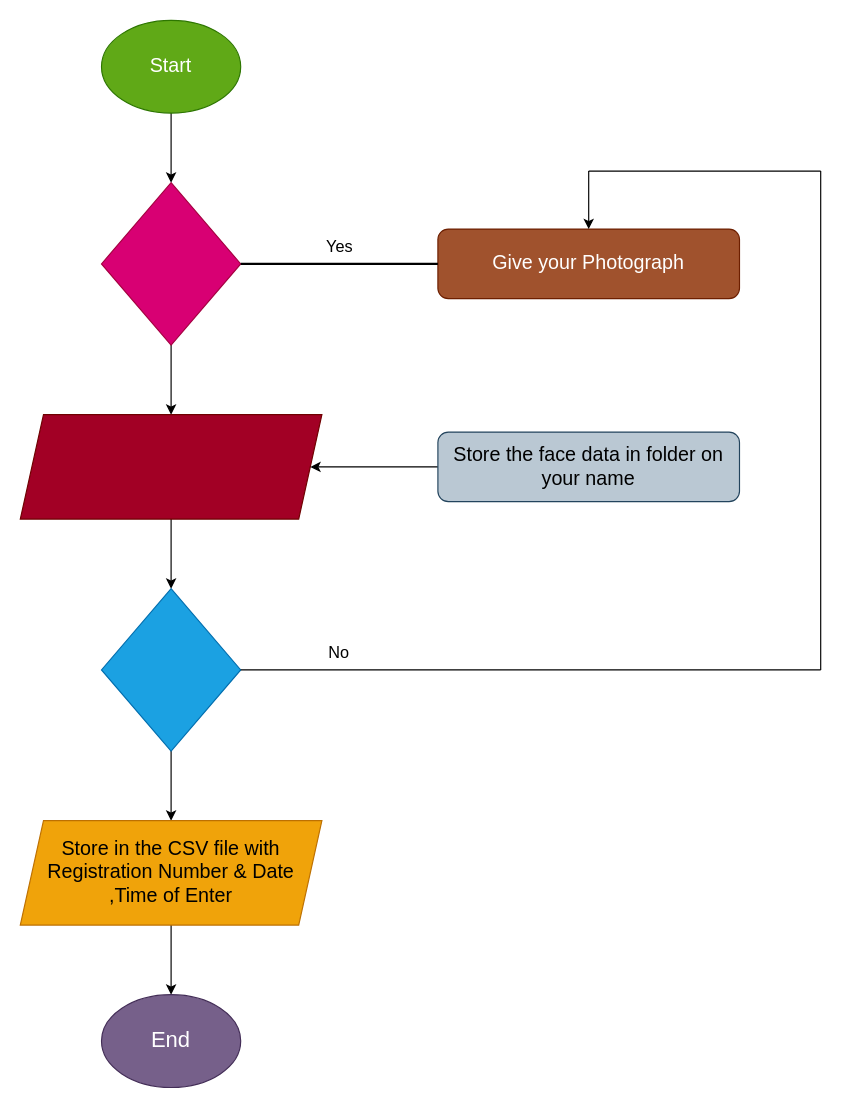
Some shapes in this 842 by 1108 pixel diagram are drawn without their labels. The centre of each missing label's shape, as x and y in pixels:
"Face Recognized" belongs at (x=170, y=669).
"New User?" belongs at (x=170, y=263).
"Recognize the Face" belongs at (x=170, y=466).
